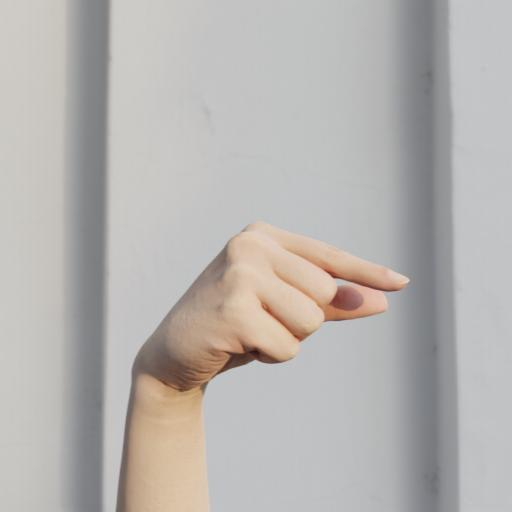G: (95, 198, 426, 428)
